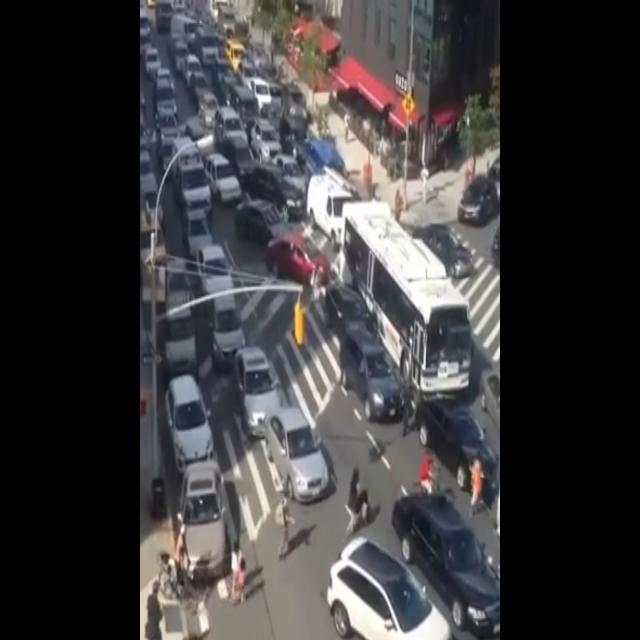Ambulance: (168, 133, 212, 220)
